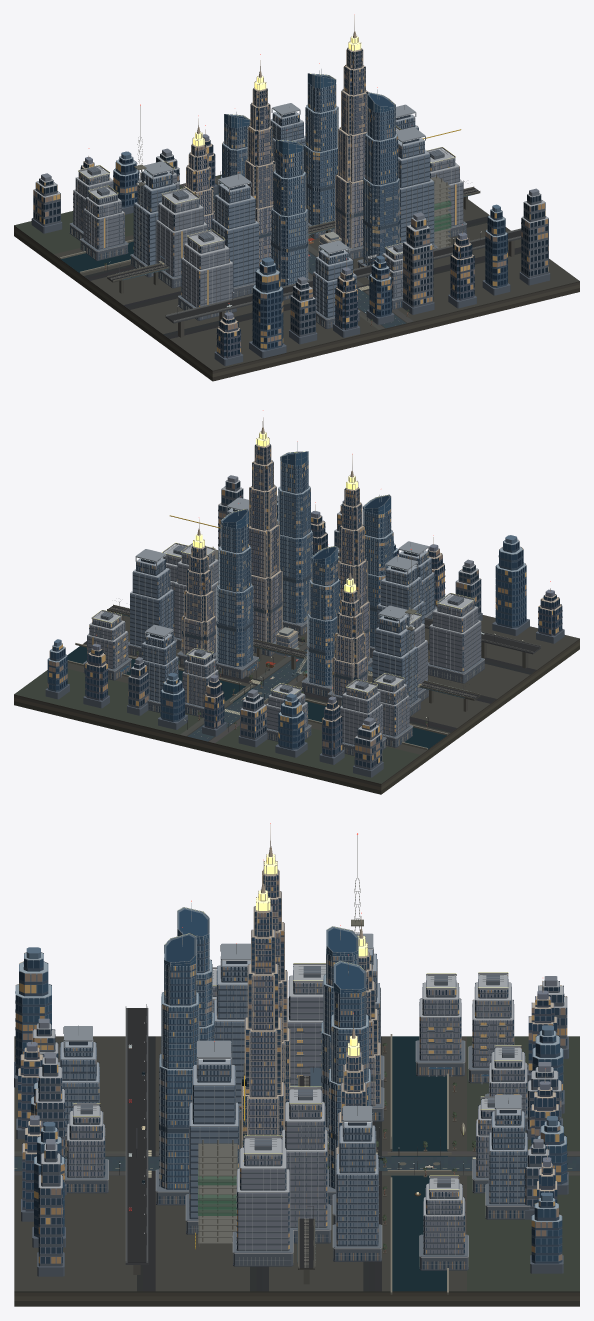
Rendered from city.glb.
The picture shows the model from 3 angles, top to bottom: view 1: azimuth 30°, elevation 25°; view 2: azimuth 150°, elevation 25°; view 3: azimuth 270°, elevation 25°; orthographic projection. The views are drawn at different scales.
Visible parts, largest first — view 1: City_City facades, City_City window colour, City_CityMetal, City_CityMatte, City_Matte, City_CityConcrete, City_CityStone, Water_River, City_CityWarm, City_Rain darkened asphalt; view 2: City_City facades, City_City window colour, City_CityMetal, City_CityMatte, City_Matte, City_CityStone, Water_River, City_CityConcrete, City_Rain darkened asphalt, City_CityWarm; view 3: City_City facades, City_CityMatte, City_City window colour, City_CityMetal, Water_River, City_Matte, City_CityConcrete, City_CityStone, City_Rain darkened asphalt, City_CityWarm, City_Net.
Boxes of the visible parts, x1,y1,x2,y2 form: City_City facades: [31, 43, 550, 366]; City_City window colour: [33, 48, 548, 356]; City_CityMetal: [71, 15, 521, 327]; City_CityMatte: [14, 174, 579, 370]; City_Matte: [14, 225, 579, 381]; City_CityConcrete: [107, 174, 521, 337]; City_CityStone: [60, 176, 413, 329]; Water_River: [61, 241, 133, 272]; City_CityWarm: [78, 36, 455, 254]; City_Rain darkened asphalt: [214, 183, 406, 328]; City_City facades: [45, 438, 564, 777]; City_City window colour: [47, 444, 562, 767]; City_CityMetal: [88, 417, 550, 754]; City_CityMatte: [14, 549, 579, 783]; City_Matte: [14, 639, 579, 794]; City_CityStone: [67, 642, 447, 749]; Water_River: [67, 646, 446, 749]; City_CityConcrete: [107, 546, 540, 711]; City_Rain darkened asphalt: [187, 649, 307, 741]; City_CityWarm: [93, 432, 474, 694]; City_City facades: [14, 864, 568, 1276]; City_CityMatte: [14, 1008, 579, 1291]; City_City window colour: [15, 869, 567, 1269]; City_CityMetal: [31, 824, 547, 1269]; Water_River: [391, 1036, 447, 1291]; City_Matte: [14, 1291, 579, 1306]; City_CityConcrete: [125, 1008, 432, 1284]; City_CityStone: [14, 1034, 579, 1294]; City_Rain darkened asphalt: [14, 1156, 579, 1170]; City_CityWarm: [73, 854, 521, 1189]; City_Net: [198, 1166, 237, 1215].
Bounding box in the file's own units: 324 × 206 × 300.
28 materials, 6 textured.
